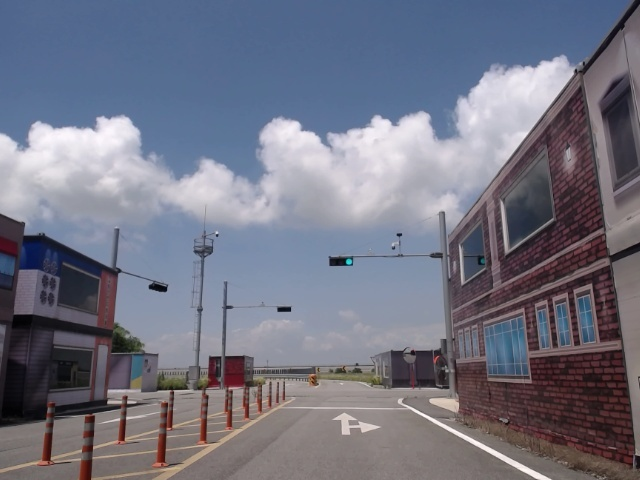green_3: (330, 257, 352, 266)
